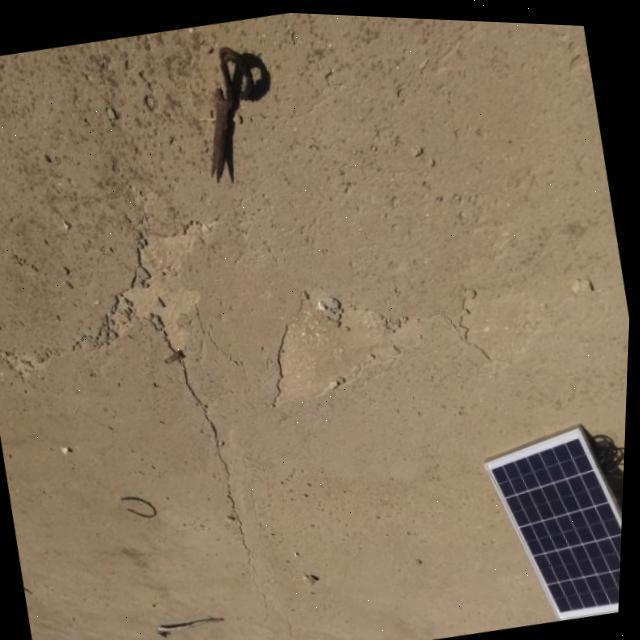Normal Solar Panel: (479, 408, 628, 626)
